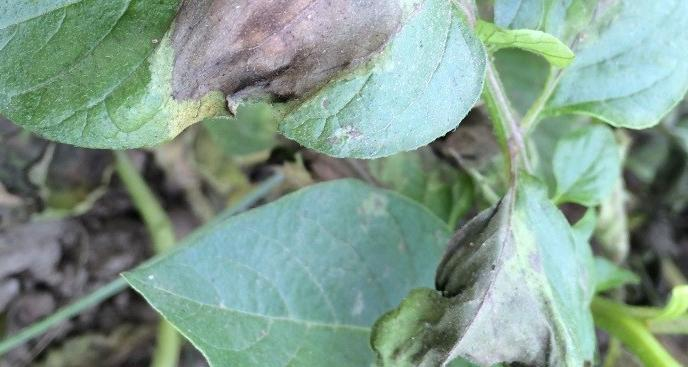Tomato leaf late blight: (129, 0, 510, 174), (378, 167, 611, 367)
